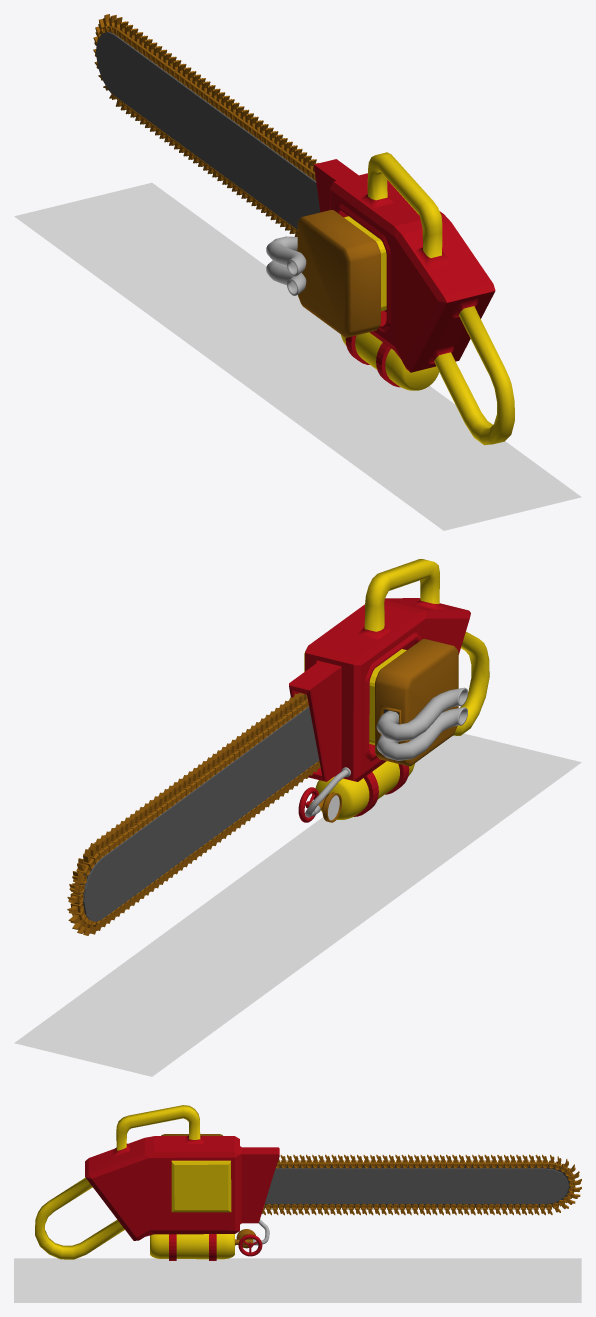
Rendered from tool 002.fbx.
The picture shows the model from 3 angles, top to bottom: view 1: azimuth 30°, elevation 25°; view 2: azimuth 150°, elevation 25°; view 3: azimuth 270°, elevation 25°; orthographic projection. The views are drawn at different scales.
Parts seen in each view (by area): view 1: shadow, Cube, Cube.001, Cube.002, Cylinder.002, Cylinder.001, Cylinder; view 2: shadow, Cube, Cube.001, Cube.002, Cylinder.001, Cylinder.002, Cylinder, Cylinder.012; view 3: shadow, Cube, Cube.001, Cylinder.002, Cube.003, Cylinder.012, Torus.
Boxes of the visible parts, bbox=[...] form: shadow: bbox=[14, 182, 581, 530]; Cube: bbox=[314, 152, 514, 445]; Cube.001: bbox=[96, 32, 320, 229]; Cube.002: bbox=[297, 210, 380, 337]; Cylinder.002: bbox=[341, 332, 439, 390]; Cylinder.001: bbox=[266, 236, 306, 276]; Cylinder: bbox=[266, 260, 306, 295]; shadow: bbox=[14, 733, 581, 1076]; Cube: bbox=[289, 559, 489, 781]; Cube.001: bbox=[83, 706, 319, 921]; Cube.002: bbox=[375, 639, 458, 766]; Cylinder.001: bbox=[376, 687, 467, 741]; Cylinder.002: bbox=[315, 761, 414, 819]; Cylinder: bbox=[376, 707, 467, 760]; Cylinder.012: bbox=[353, 764, 409, 816]; shadow: bbox=[14, 1258, 581, 1302]; Cube: bbox=[35, 1105, 279, 1259]; Cube.001: bbox=[265, 1168, 569, 1203]; Cylinder.002: bbox=[150, 1234, 234, 1259]; Cube.003: bbox=[264, 1164, 573, 1206]; Cylinder.012: bbox=[169, 1234, 216, 1260]; Torus: bbox=[238, 1234, 262, 1256].
Size of the model in its own units: 261 by 425 by 1254.
